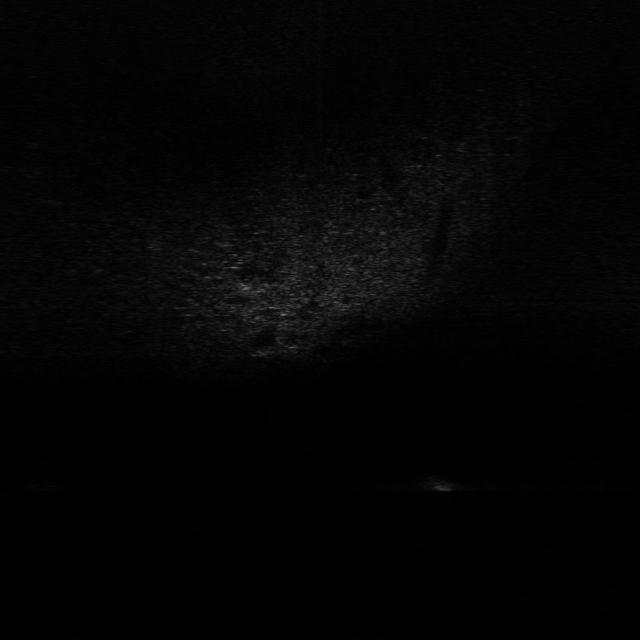cylinder: (423, 467, 458, 495)
